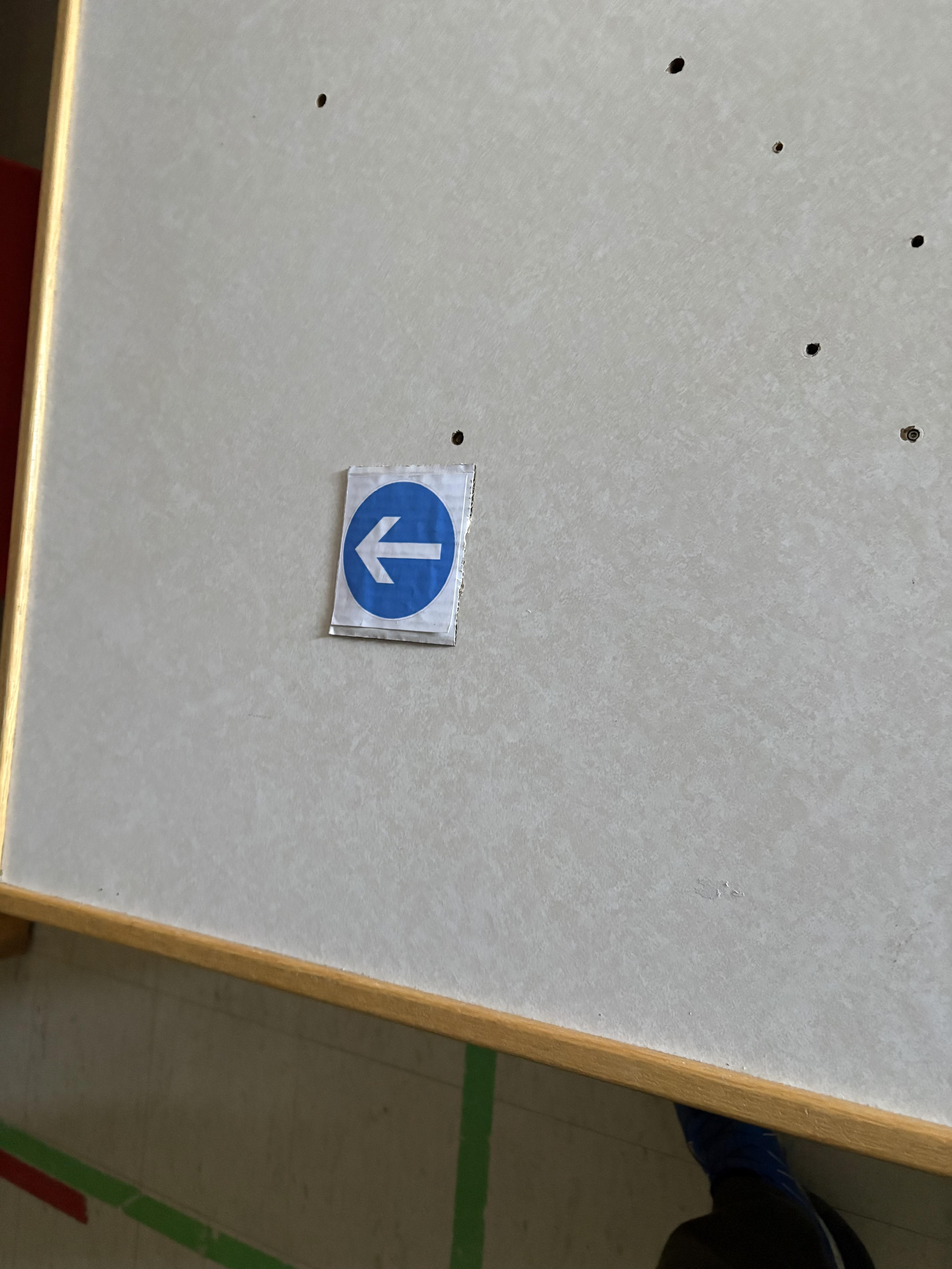Proceed Left: (331, 464, 476, 650)
